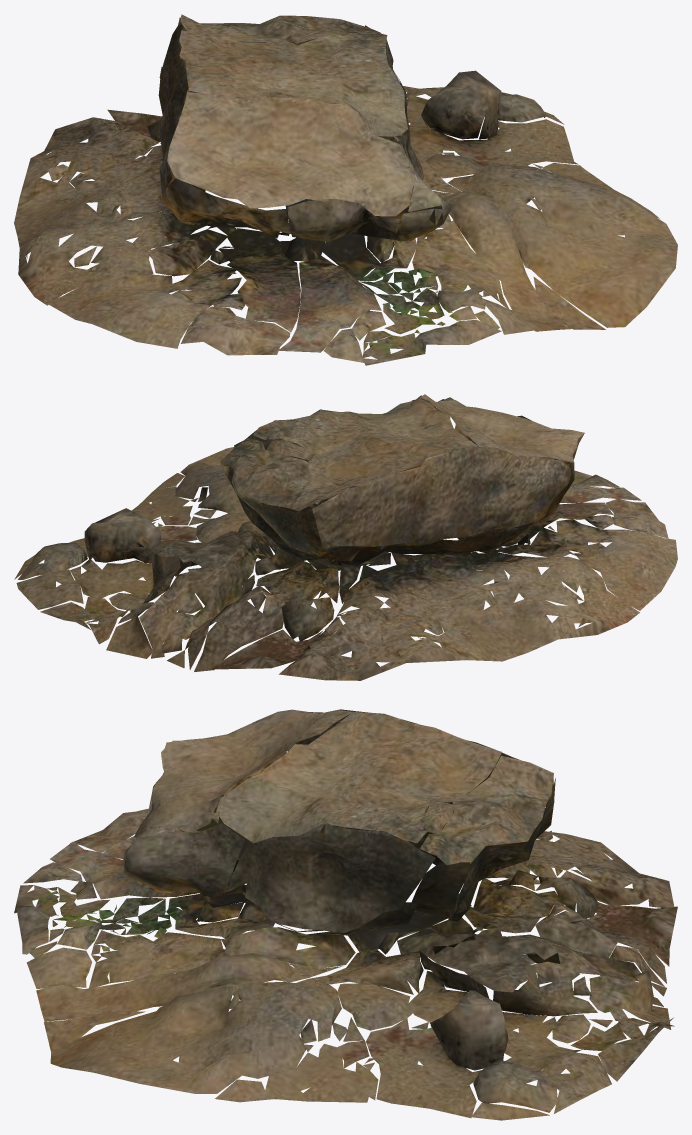
File: coast_rocks_05.glb
3 views of the same model, one above another, from view 1: azimuth 30°, elevation 25°; view 2: azimuth 150°, elevation 25°; view 3: azimuth 270°, elevation 25° (orthographic). The views are drawn at different scales.
Visible parts, largest first — view 1: coast_rocks_05; view 2: coast_rocks_05; view 3: coast_rocks_05.
Part boxes in pixels (x1,y1,x2,y2): coast_rocks_05: [14, 14, 677, 365]; coast_rocks_05: [14, 394, 677, 680]; coast_rocks_05: [14, 709, 677, 1120].
Size of the model in its own units: 2 by 0.656 by 1.86.
Materials: 1 (1 with a texture image).
